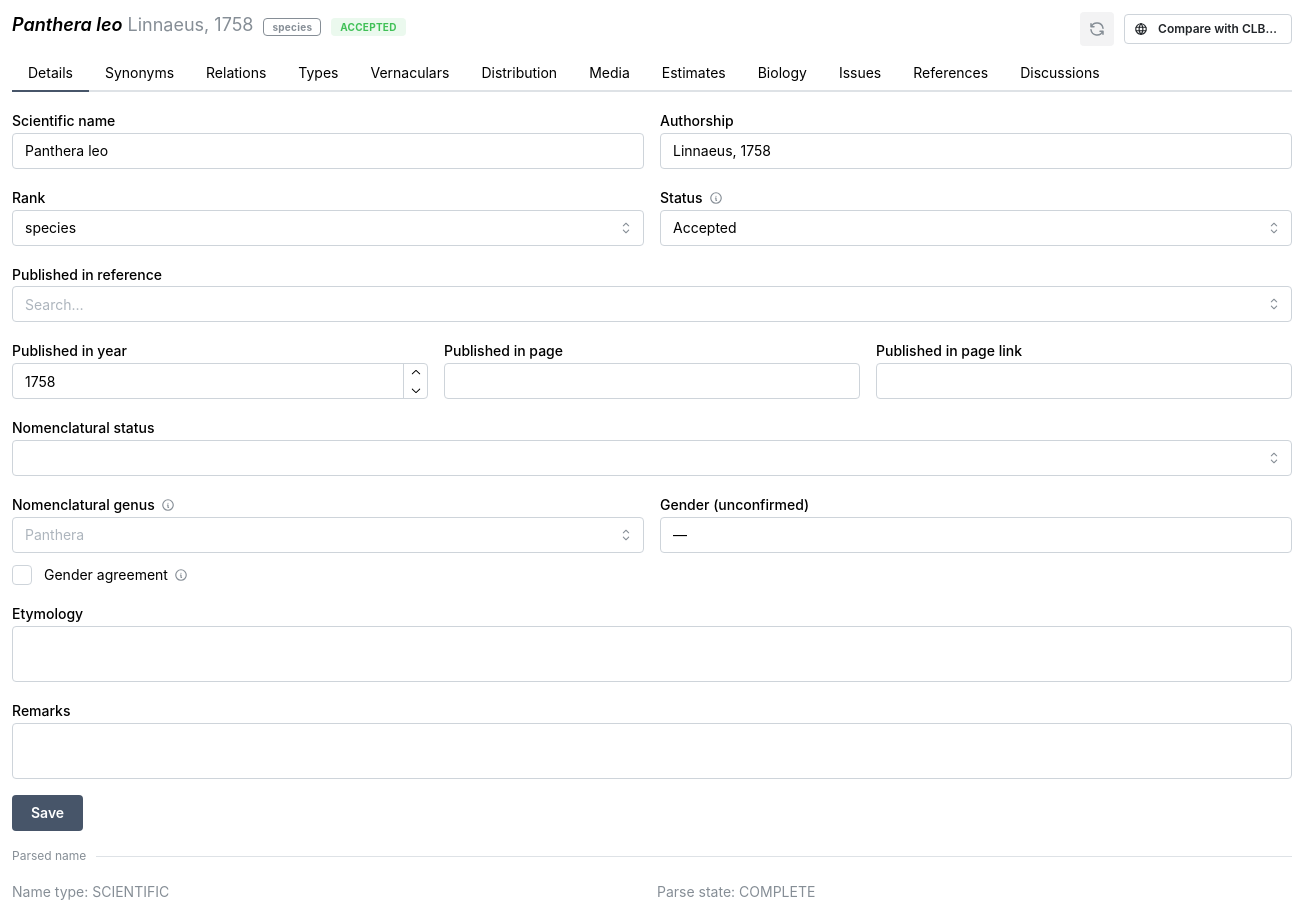
Scenario: an editor can revalidate the taxon subtree, POSTing and showing the scoped summary
Click the button named "Revalidate this group": (1097, 29) [1080,12,1114,46]
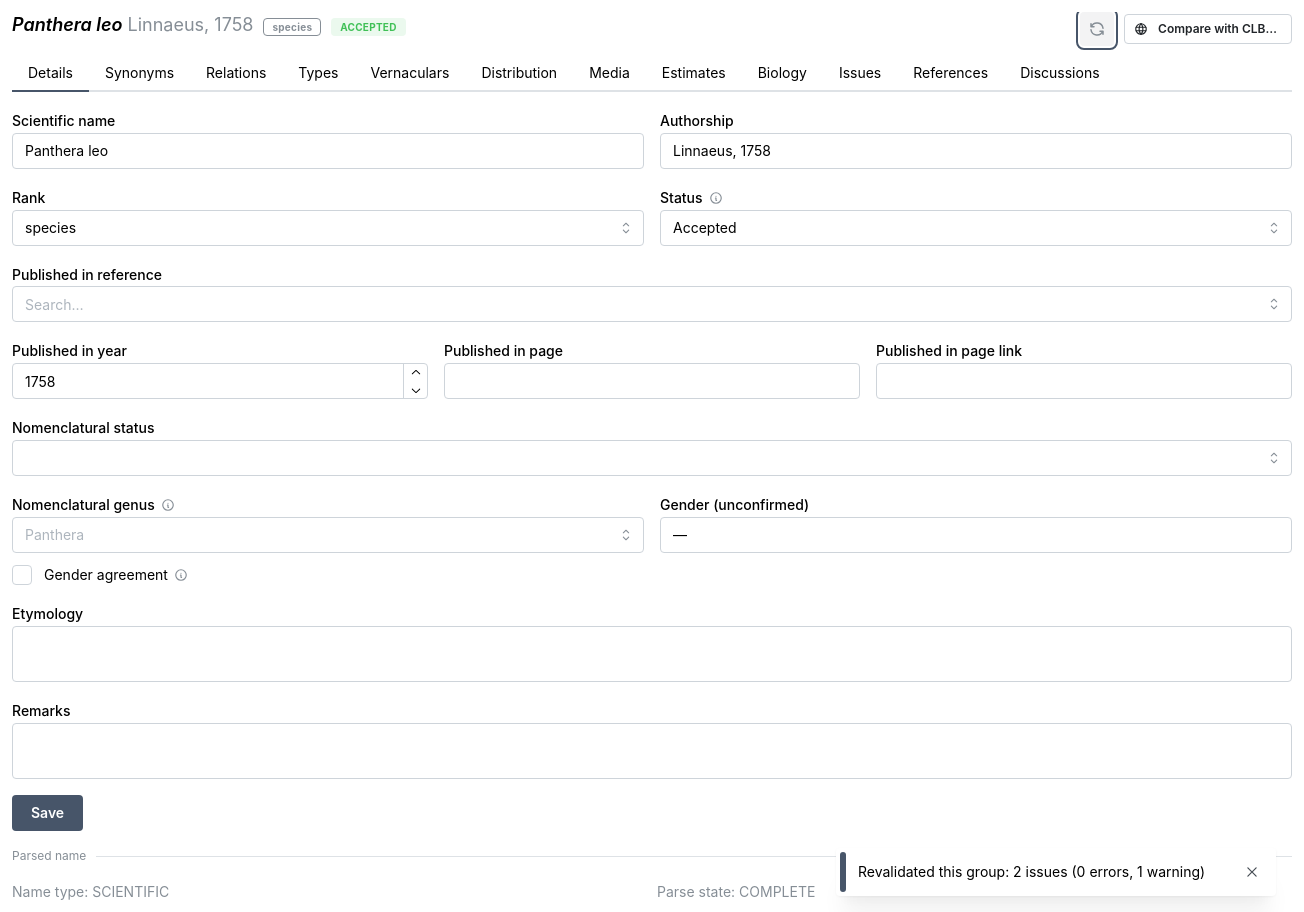
expect the text "Revalidated this group: 2 issues (0 errors, 1 warning)" is shown: met, box [858,862,1228,882]
